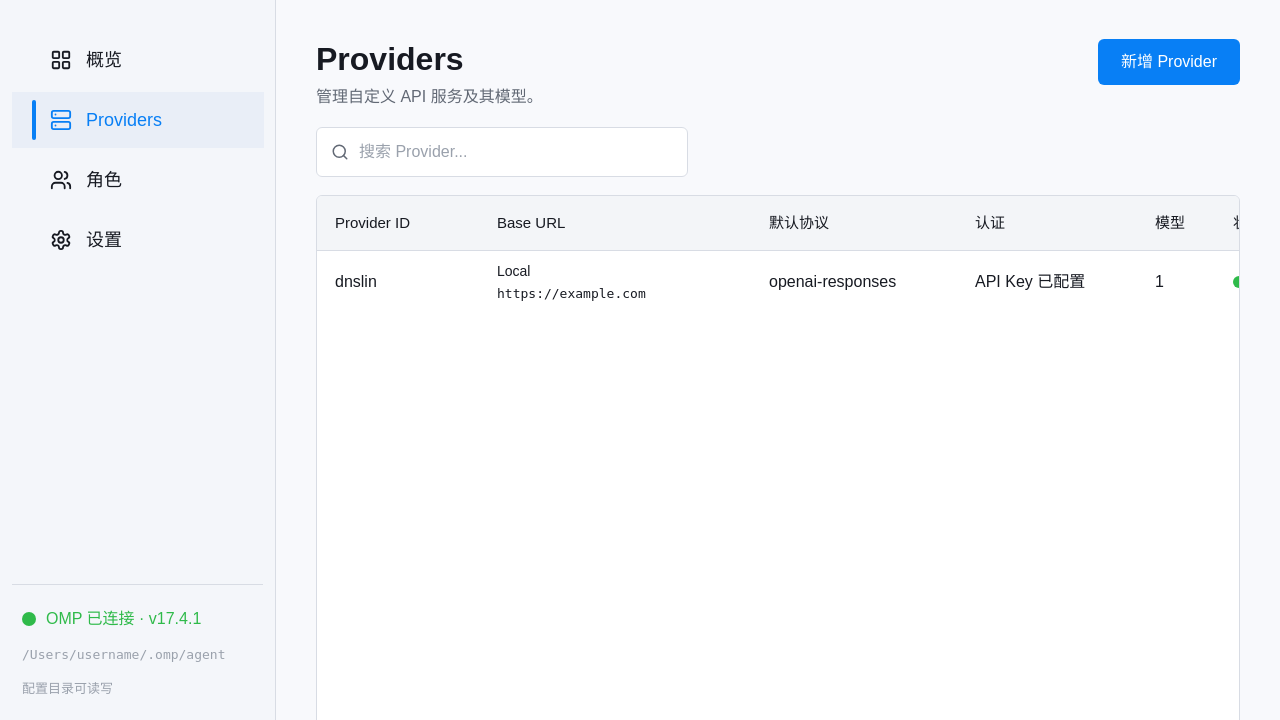
Scenario: React page seam › routes server validation error provider-id-conflict to its visible field
The image size is (1280, 720).
Click the button "新增 Provider". click: point(1169, 62)
box: [1098,39,1240,85]
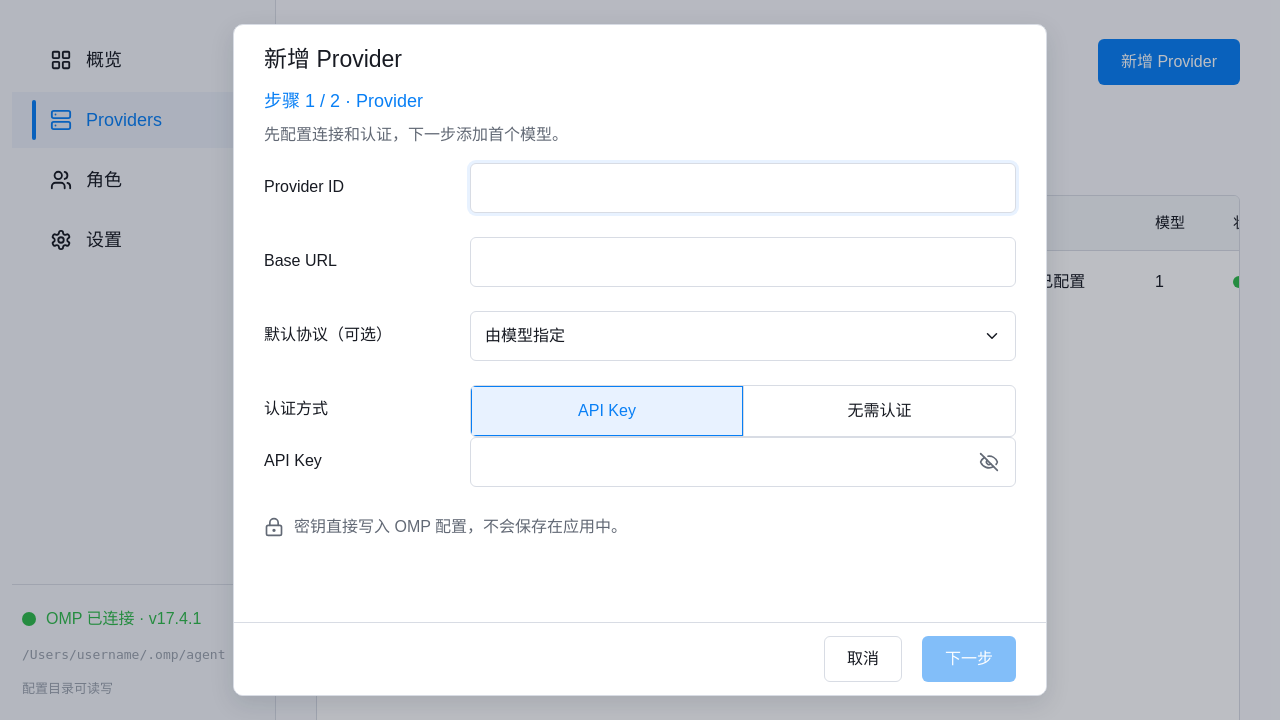
Type "new-provider" into the field labelled "Provider ID". click: point(743, 188)
box: [470,163,1016,213]
Type "https://new-provider.example/v1" into the field labelled "Base URL". click: point(743, 262)
box: [470,237,1016,287]
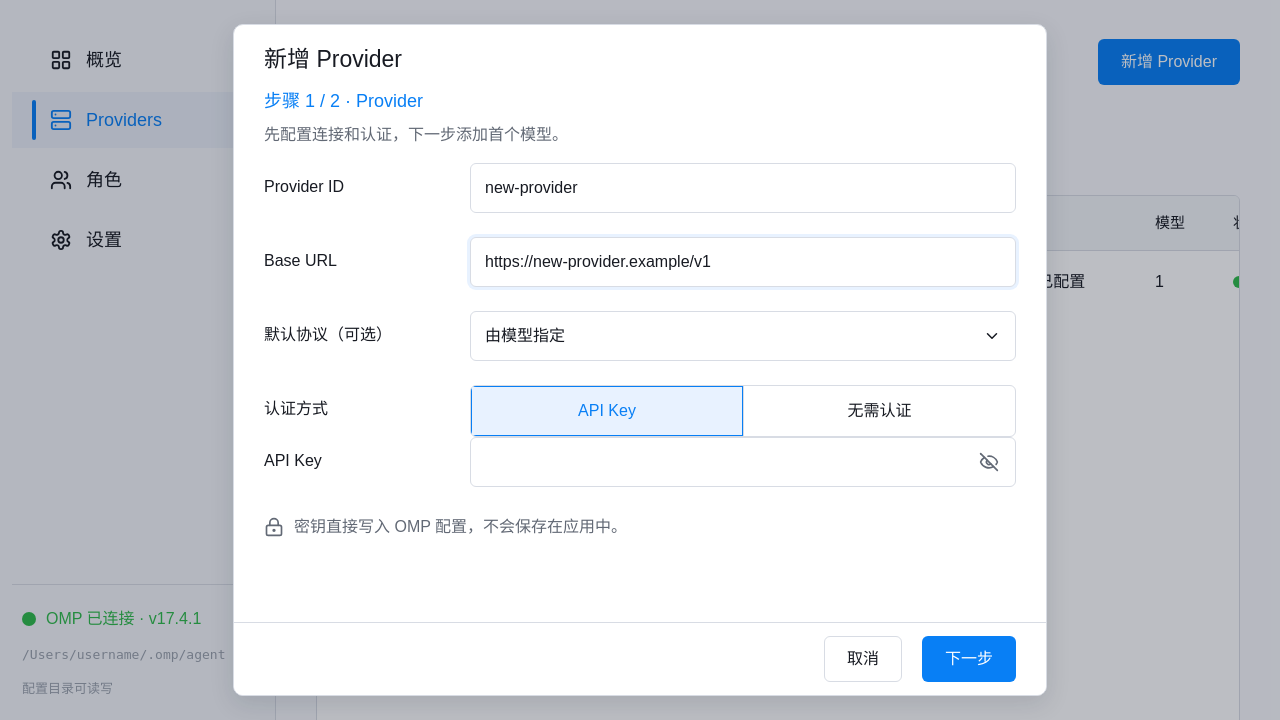
Click the button "下一步". click: point(969, 659)
box: [922,636,1016,682]
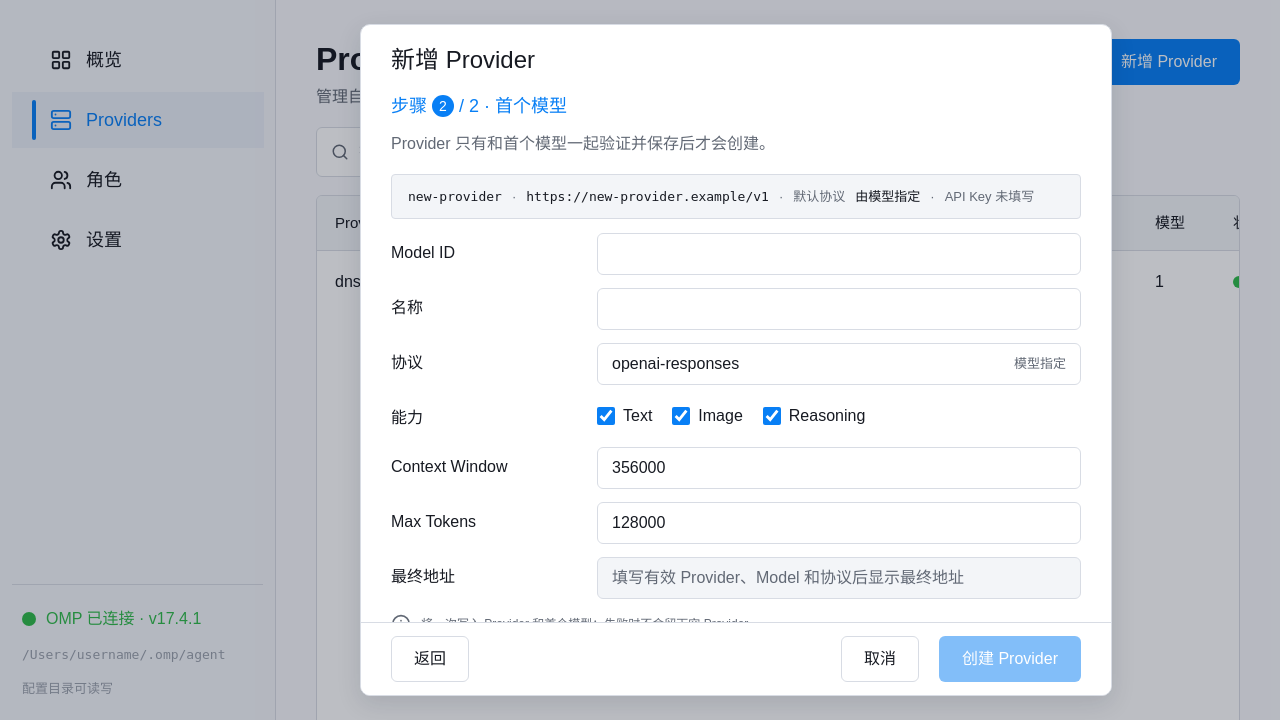
Type "new-model" into the field labelled "Model ID". click: point(839, 254)
box: [597,233,1081,275]
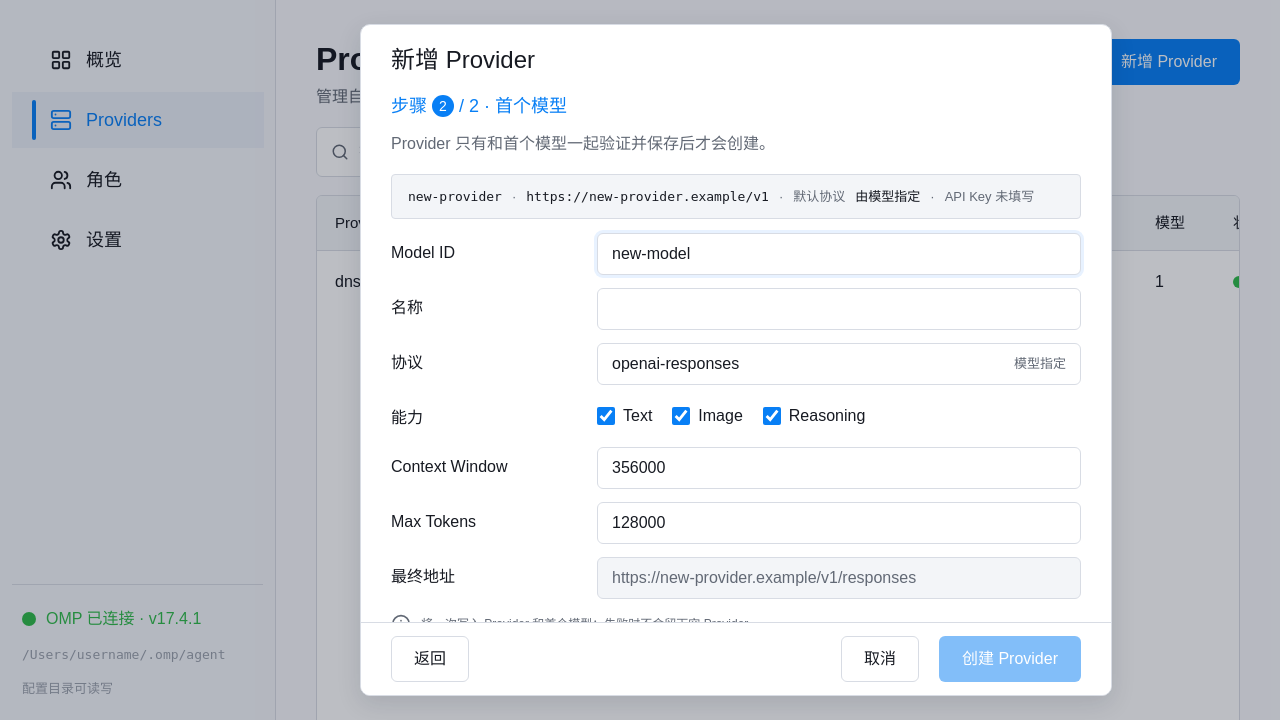
Type "New Model" into the field labelled "名称". click: point(839, 309)
box: [597,288,1081,330]
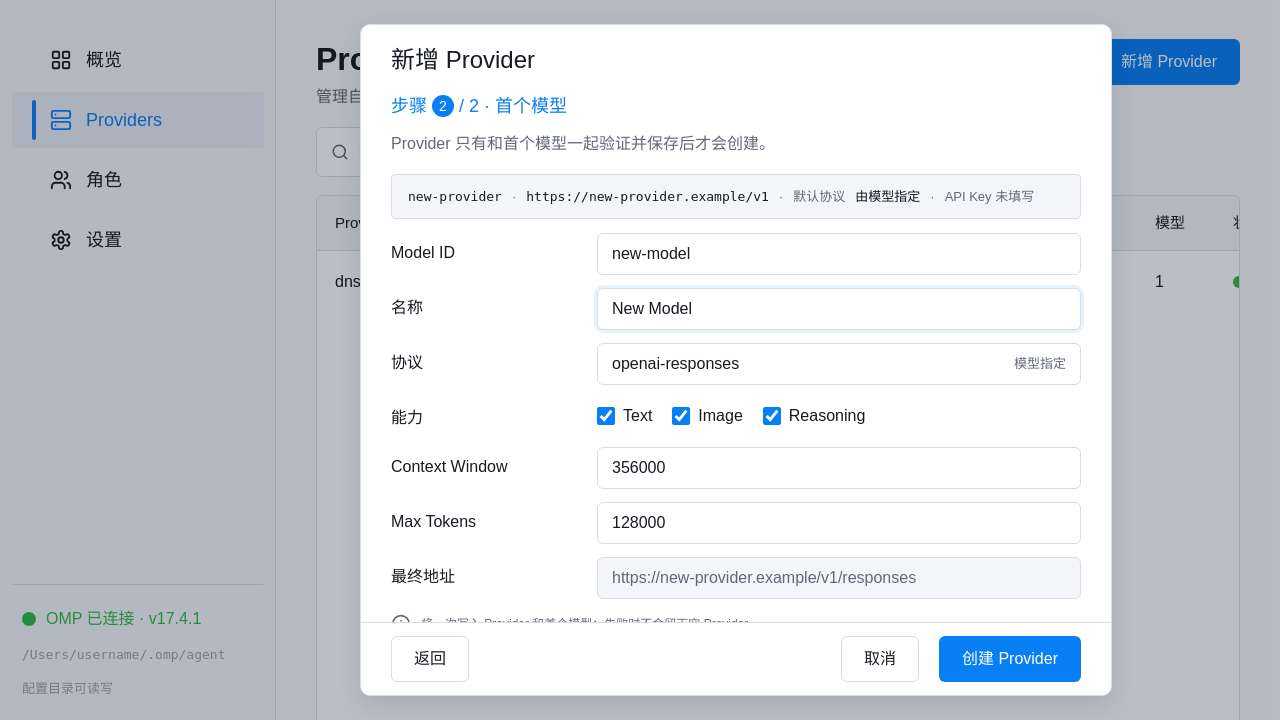
Click the button "创建 Provider". click: point(1010, 659)
box: [939,636,1081,682]
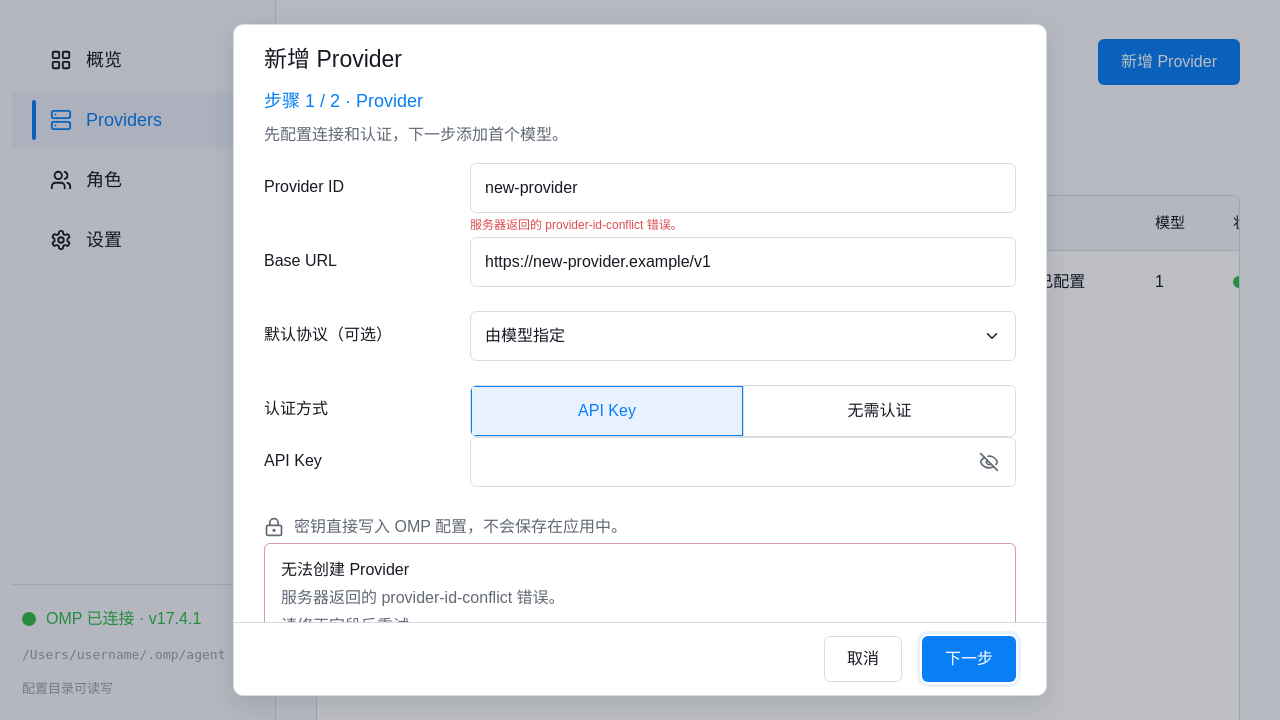
Check: the text "步骤 1 / 2 · Provider" is shown, box [264,91,423,111]
Check: the element showing "Provider ID 服务器返回的 provider-id-conflict 错误。" is shown, box [264,163,1016,237]
